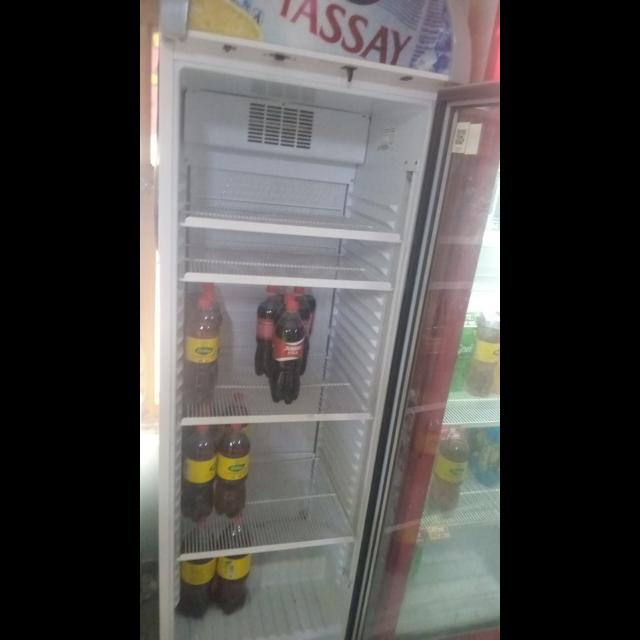Cooling-Display: (159, 1, 471, 640)
